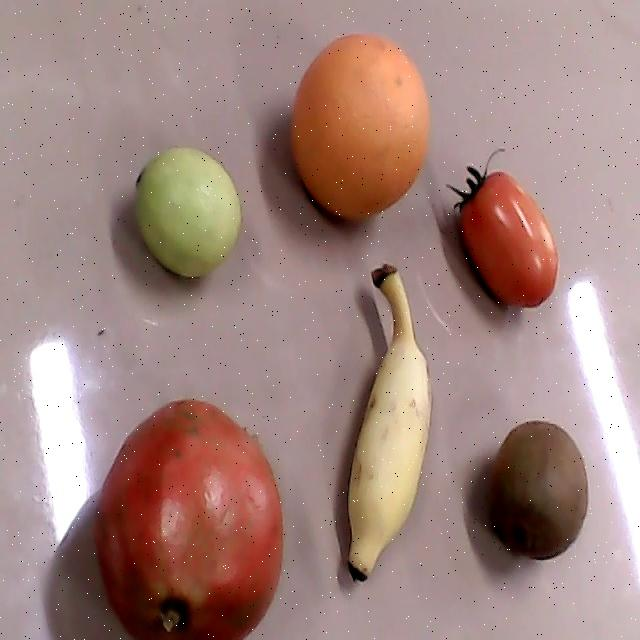kiwi: (490, 419, 590, 561)
lemon: (136, 145, 243, 278)
orange: (289, 32, 432, 221)
pomegranate: (92, 399, 283, 638)
tomato: (447, 147, 560, 310)
